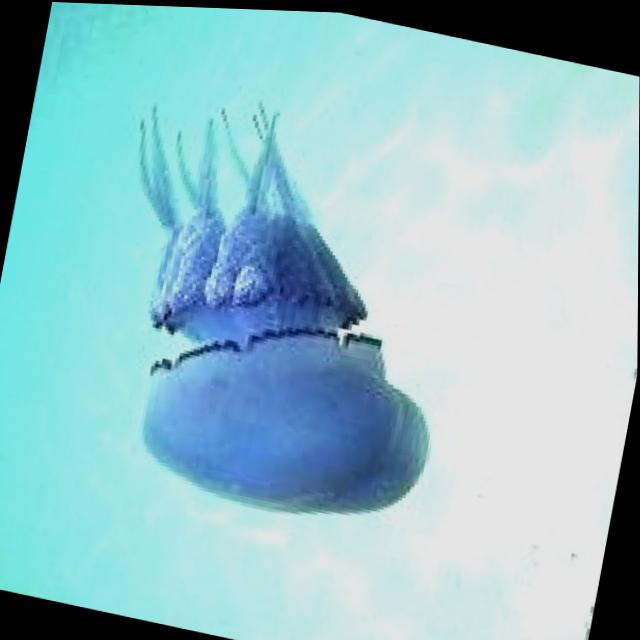Box-jellyfish: (69, 73, 483, 542)
